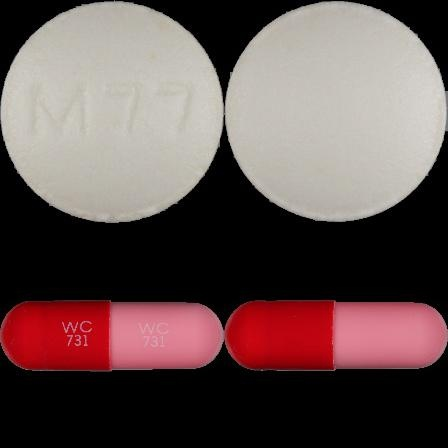61919-013: (0, 0, 224, 224)
